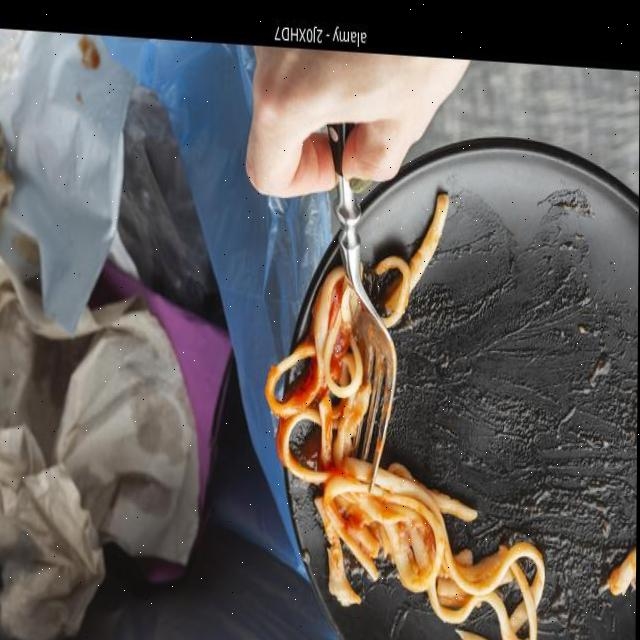Wet: (322, 450, 551, 640)
